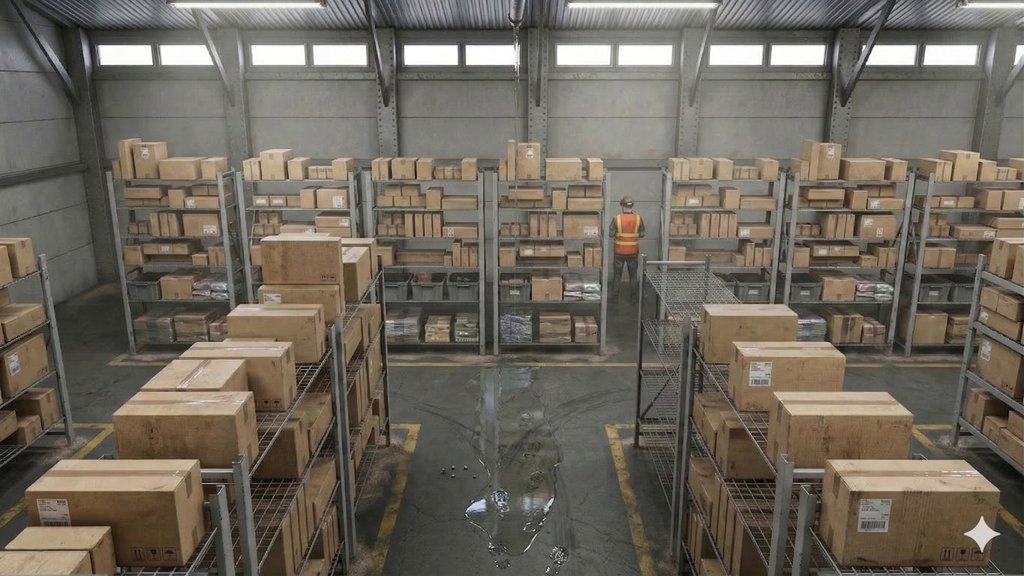empty_shelf: (632, 271, 675, 498), (731, 441, 782, 545), (647, 263, 733, 318)
person: (611, 191, 648, 321)
safety_vest: (616, 203, 643, 258)
spill: (369, 343, 622, 576)
